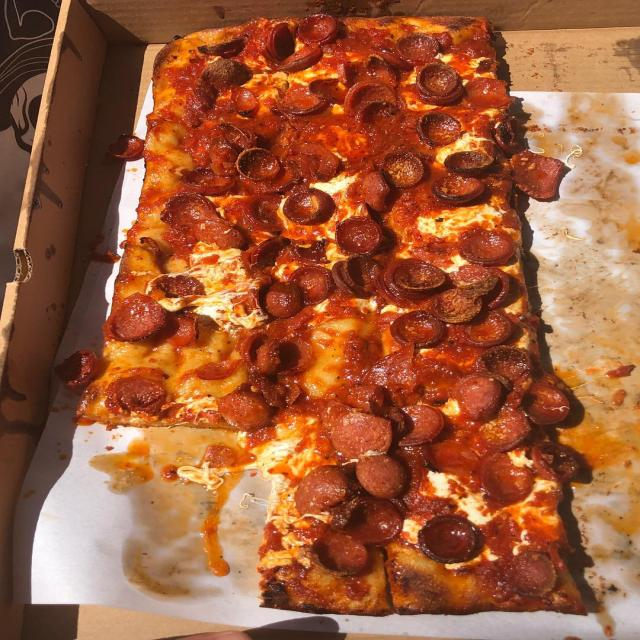pepperoni: (491, 550, 564, 602), (99, 291, 170, 342), (332, 498, 407, 546), (468, 450, 541, 499), (416, 514, 486, 564), (511, 150, 568, 208), (326, 415, 396, 459), (354, 451, 414, 501), (474, 406, 534, 454), (109, 372, 173, 417), (292, 466, 350, 515), (452, 375, 510, 422), (397, 402, 455, 449), (163, 190, 225, 233), (237, 192, 296, 237), (520, 380, 576, 427), (310, 534, 370, 576), (215, 387, 271, 432), (528, 438, 586, 481), (458, 227, 513, 270), (423, 439, 485, 475), (336, 212, 384, 258), (178, 165, 240, 198), (414, 112, 467, 150), (480, 346, 534, 383), (193, 220, 253, 253), (394, 308, 442, 349), (344, 78, 401, 111), (393, 30, 442, 68), (276, 84, 334, 116), (431, 292, 485, 326), (462, 311, 511, 348), (239, 333, 280, 376), (222, 122, 284, 150), (233, 145, 287, 177), (345, 253, 383, 298), (383, 151, 428, 189), (256, 22, 302, 58), (154, 311, 200, 347), (266, 279, 302, 324), (432, 174, 486, 204), (55, 351, 101, 386), (398, 265, 447, 297), (104, 130, 149, 164), (414, 64, 459, 98), (355, 171, 389, 215), (440, 151, 502, 175), (294, 14, 342, 45), (149, 274, 203, 301), (291, 186, 328, 225), (357, 99, 402, 131), (291, 264, 326, 304), (366, 50, 401, 90), (274, 45, 325, 72), (414, 84, 468, 106), (310, 76, 349, 106), (207, 141, 241, 175), (252, 236, 287, 269), (279, 339, 314, 370), (450, 266, 495, 290), (290, 241, 338, 263), (488, 267, 511, 308), (378, 402, 402, 436), (198, 38, 243, 56), (230, 84, 256, 115), (332, 259, 351, 299)
pizza: (74, 14, 604, 618), (255, 514, 256, 516)
